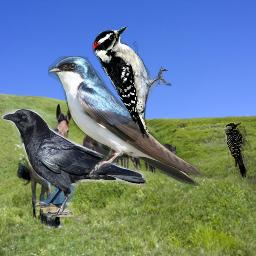Crow: (2, 109, 146, 217)
Swallow: (48, 56, 205, 186)
Woodpecker: (92, 26, 173, 138), (224, 122, 252, 180)
